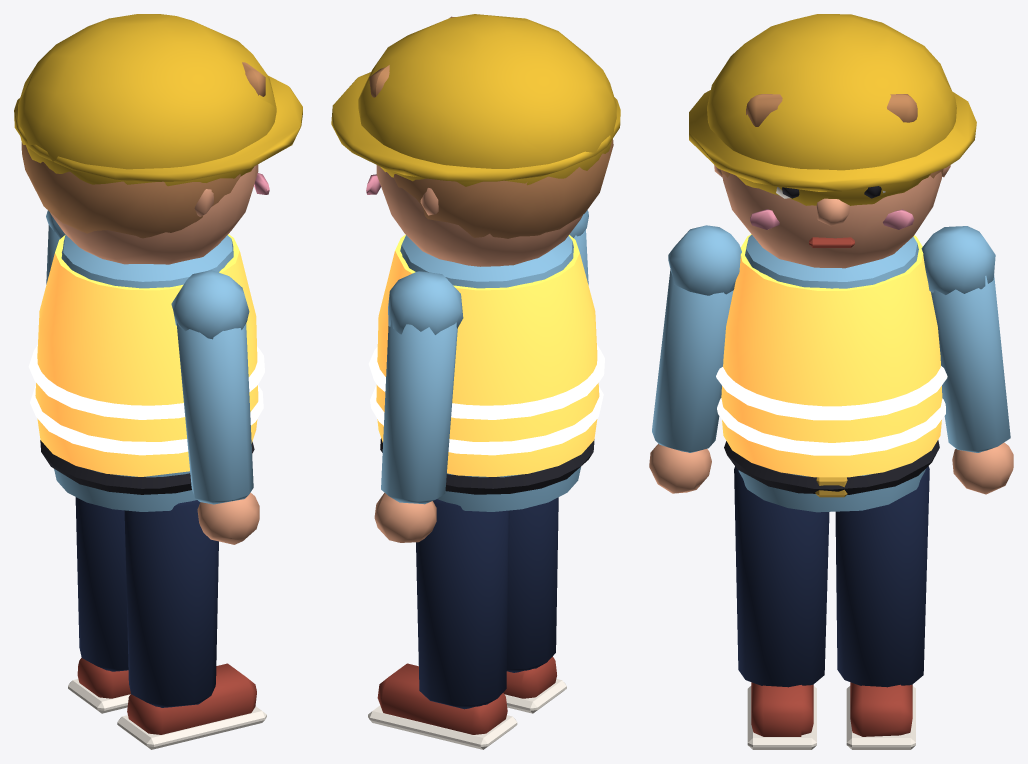
Rendered from ped_worker.glb.
3 views of the same model, side by side, from view 1: azimuth 30°, elevation 25°; view 2: azimuth 150°, elevation 25°; view 3: azimuth 270°, elevation 25° (orthographic).
Parts seen in each view (by area): view 1: ped_worker; view 2: ped_worker; view 3: ped_worker.
Part boxes in pixels (bbox=[...]): ped_worker: bbox=[14, 14, 302, 749]; ped_worker: bbox=[331, 14, 620, 749]; ped_worker: bbox=[649, 14, 1013, 749].
Bounding box in the file's own units: 0.5339 × 1.39 × 0.6737.
1 material, 1 textured.
